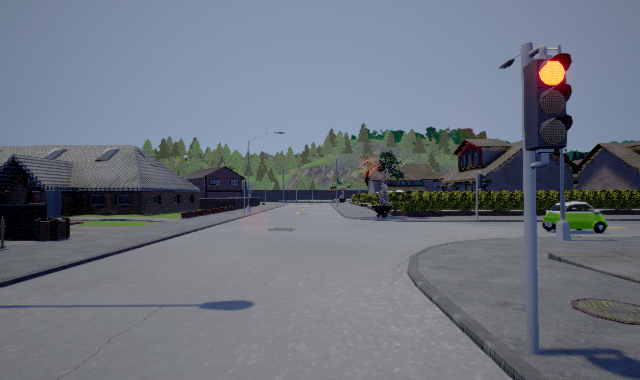traffic_light: (523, 52, 573, 150)
vehicle: (542, 200, 608, 233)
